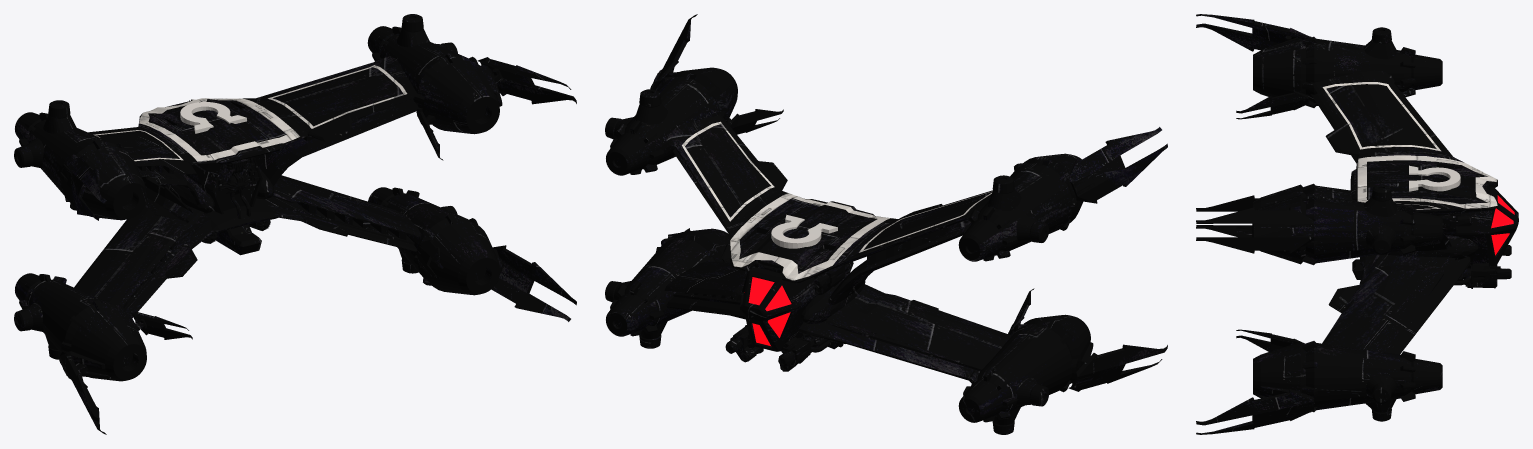
Rendered from black-omega.glb.
3 renders of one model, left to right at view 1: azimuth 30°, elevation 25°; view 2: azimuth 150°, elevation 25°; view 3: azimuth 270°, elevation 25°, orthographic. The views are drawn at different scales.
Parts seen in each view (by area): view 1: Starfury_Omega; view 2: Starfury_Omega; view 3: Starfury_Omega.
Boxes of the visible parts, left/top/right/bottom form: Starfury_Omega: left=14, top=14, right=576, bottom=434; Starfury_Omega: left=605, top=14, right=1167, bottom=434; Starfury_Omega: left=1196, top=14, right=1518, bottom=434.
Bounding box in the file's own units: 7.67 × 3.85 × 4.89.
Materials: 3 (2 with a texture image).
